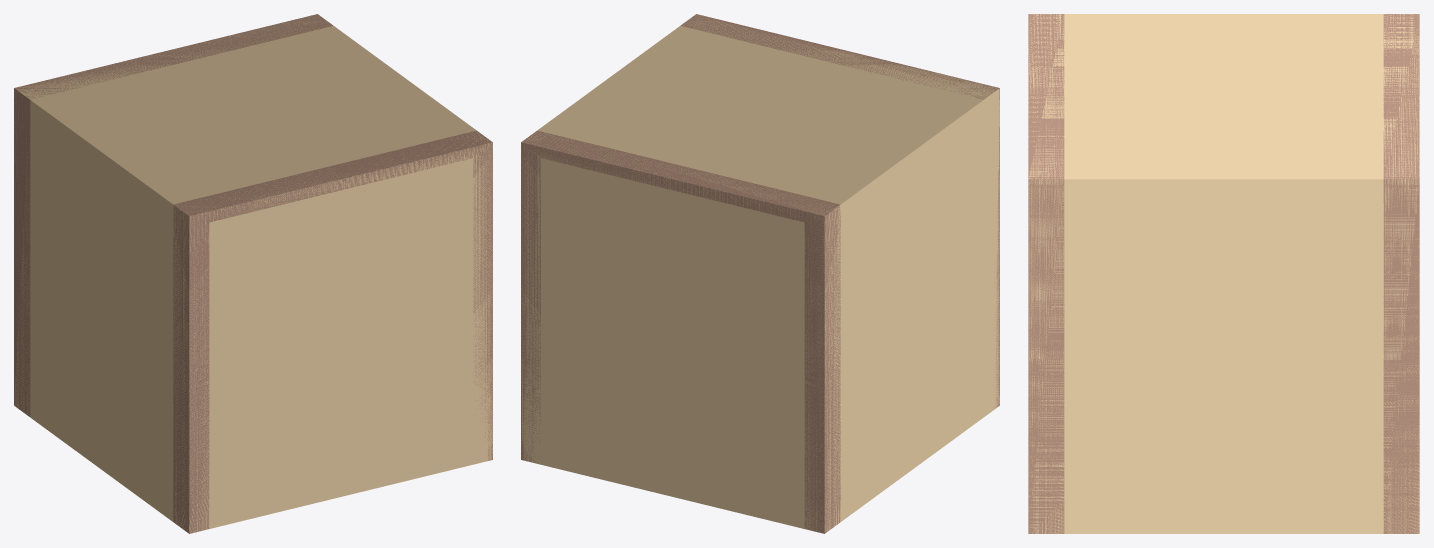
3 renders of one model, left to right at view 1: azimuth 30°, elevation 25°; view 2: azimuth 150°, elevation 25°; view 3: azimuth 270°, elevation 25°, orthographic. The views are drawn at different scales.
Bounding box in the file's own units: 65535 × 65535 × 65535.
